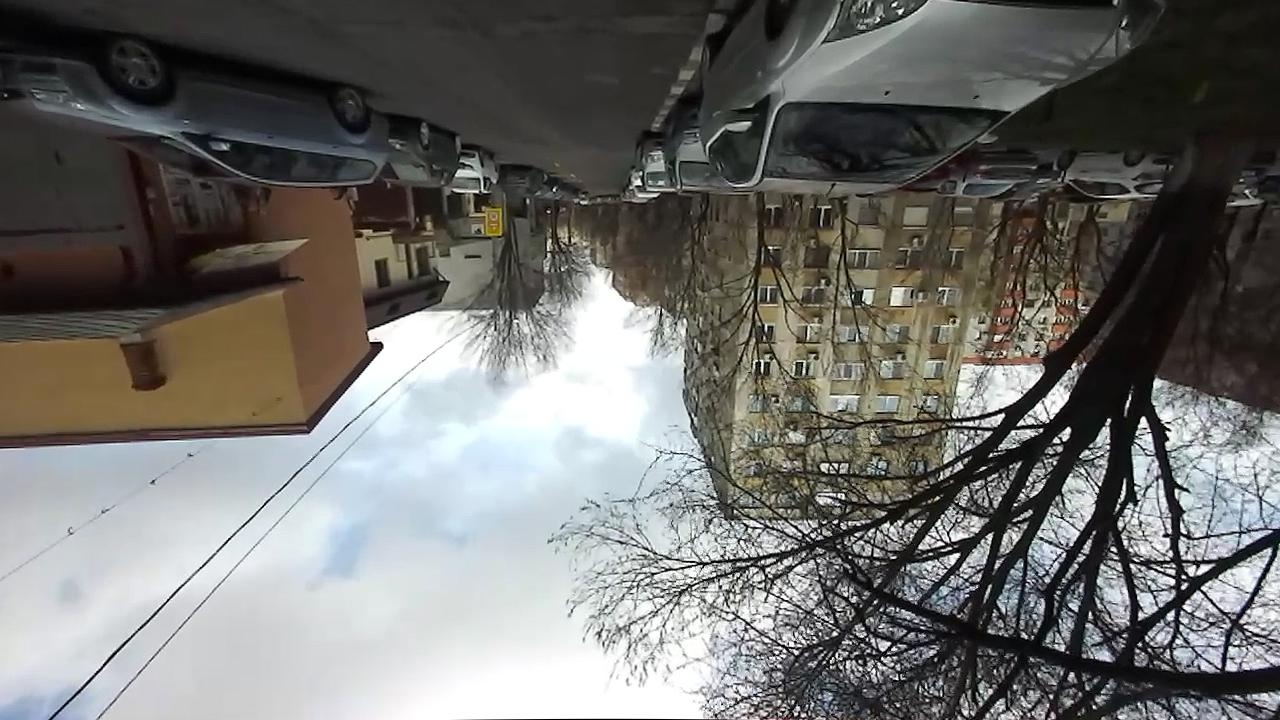pothole: (512, 9, 557, 29)
